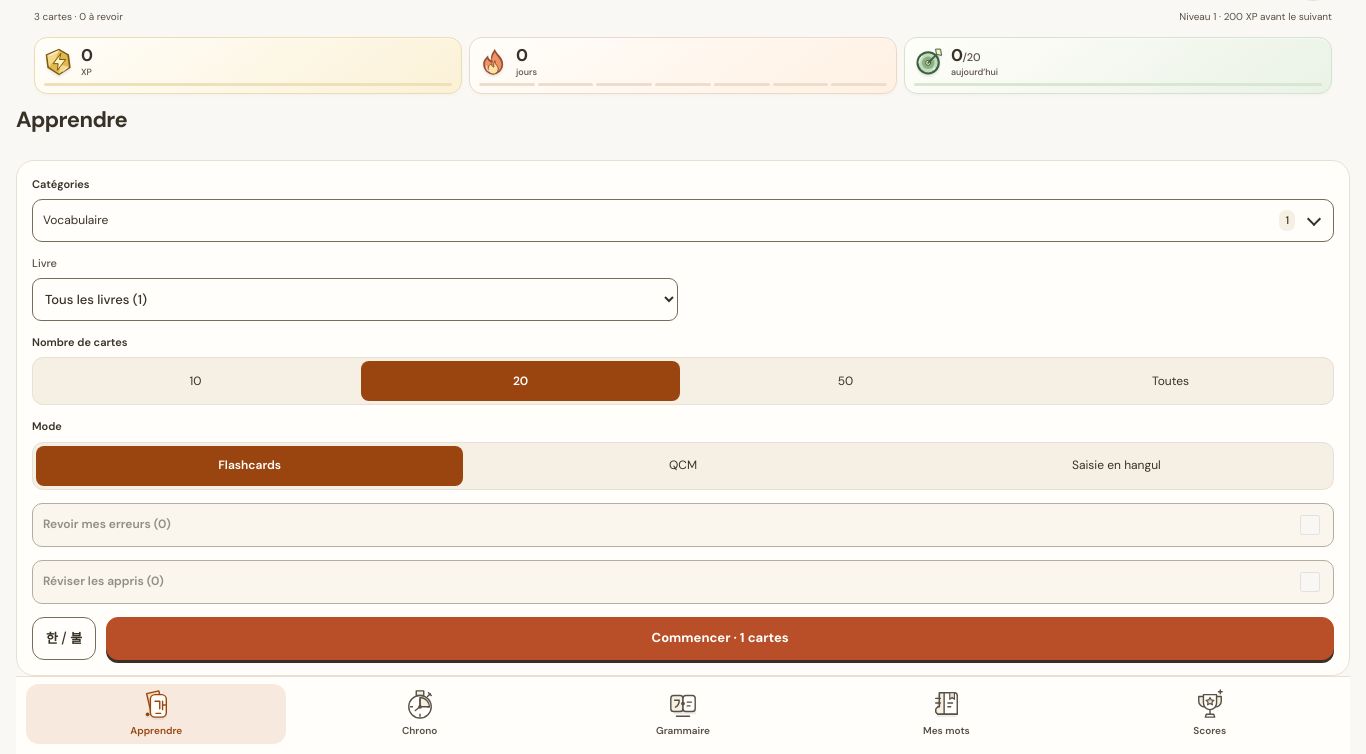
Test: React workspace › supports confirmed bulk deletion and refreshes catalogue counts
(page scrolled)
Click the button "Mes mots". click: (946, 714)
box: left=816, top=684, right=1077, bottom=744
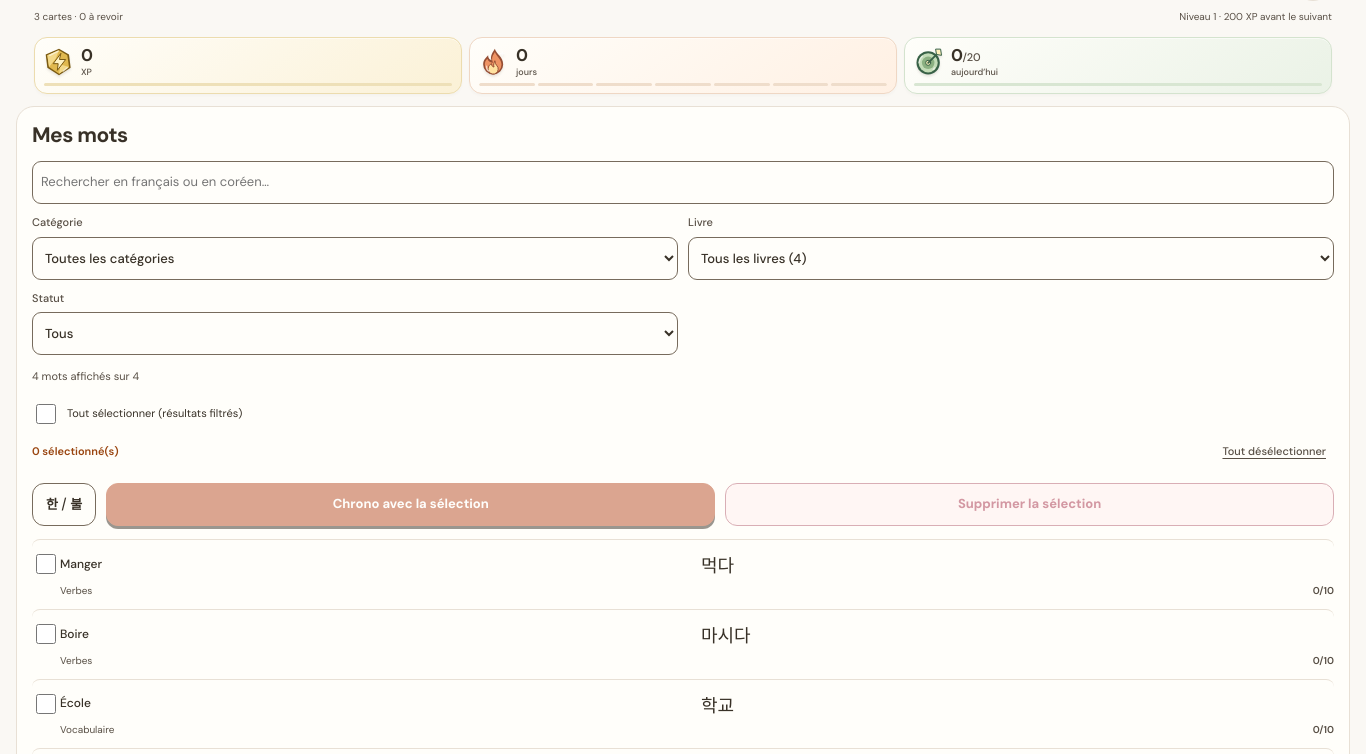
Click the checkbox named "Sélectionner Manger". click: (46, 564)
box: left=36, top=554, right=56, bottom=574
(page scrolled)
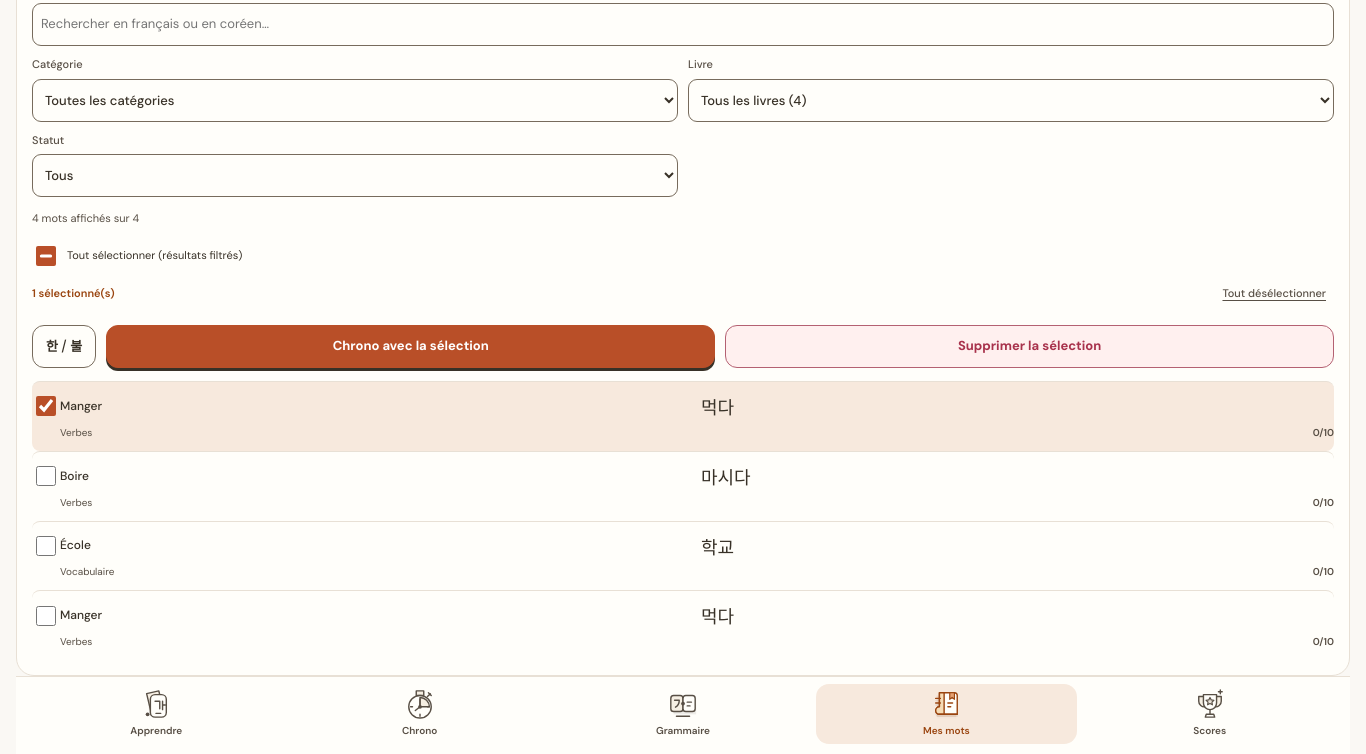
Click the checkbox named "Sélectionner Manger". click: (46, 616)
box: left=36, top=606, right=56, bottom=626
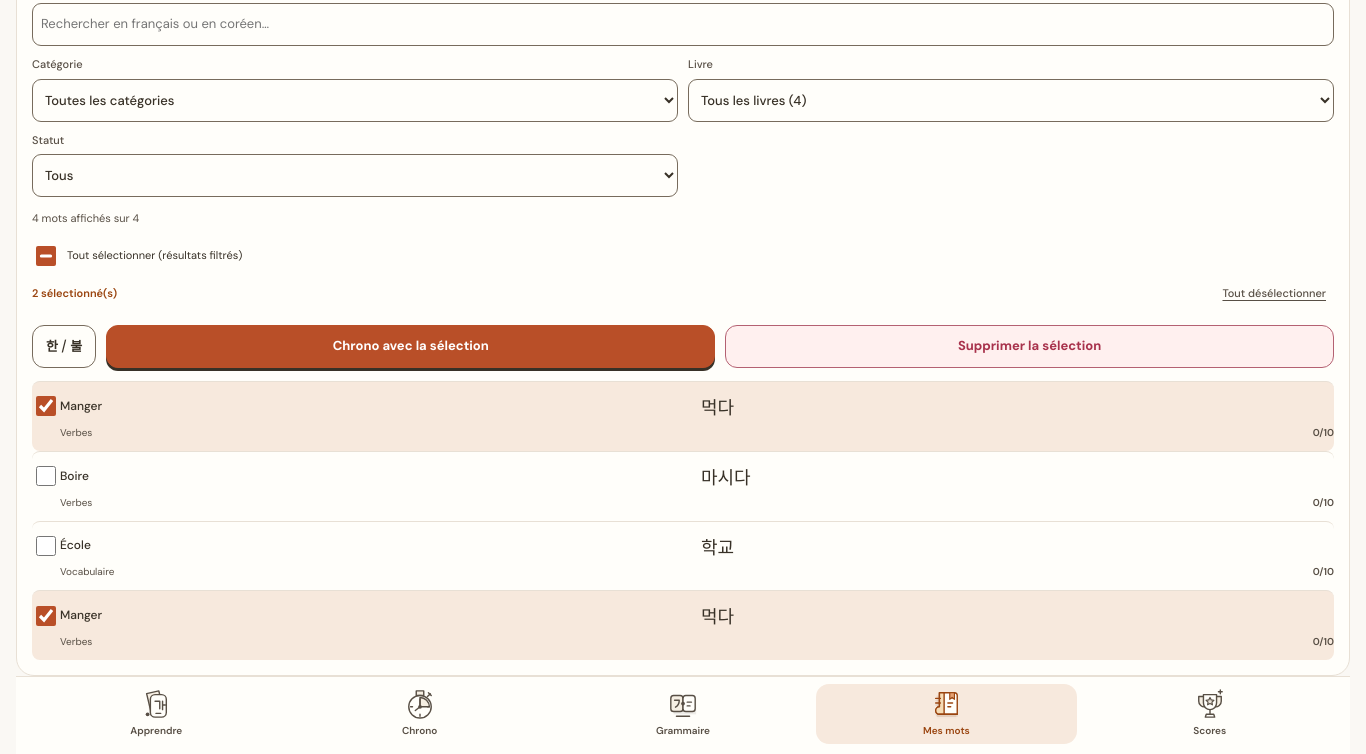
Click the button "Supprimer la sélection". click: (1030, 347)
box: left=725, top=325, right=1334, bottom=368
(page scrolled)
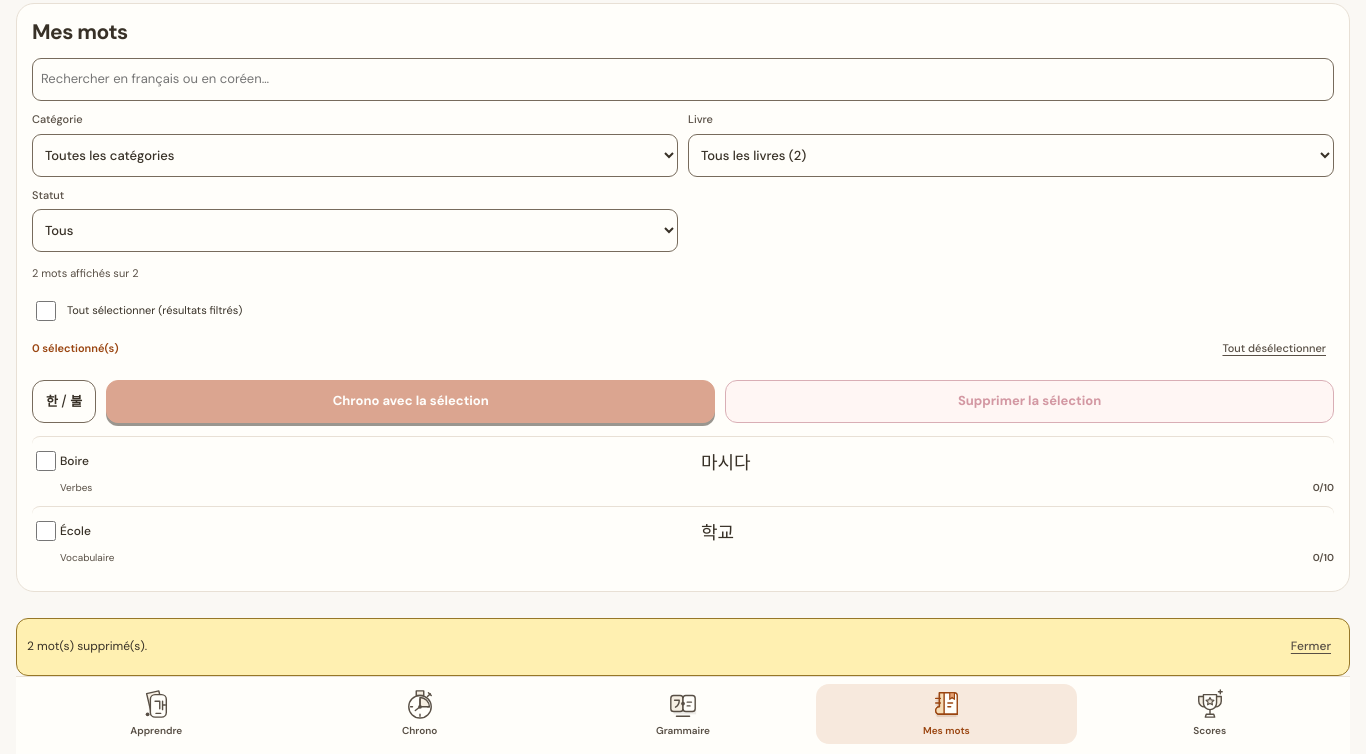
Expected: the text "0 sélectionné(s)" is shown, left=32, top=340, right=118, bottom=358
Expected: the text "2 mots affichés sur 2" is shown, left=32, top=266, right=138, bottom=280
